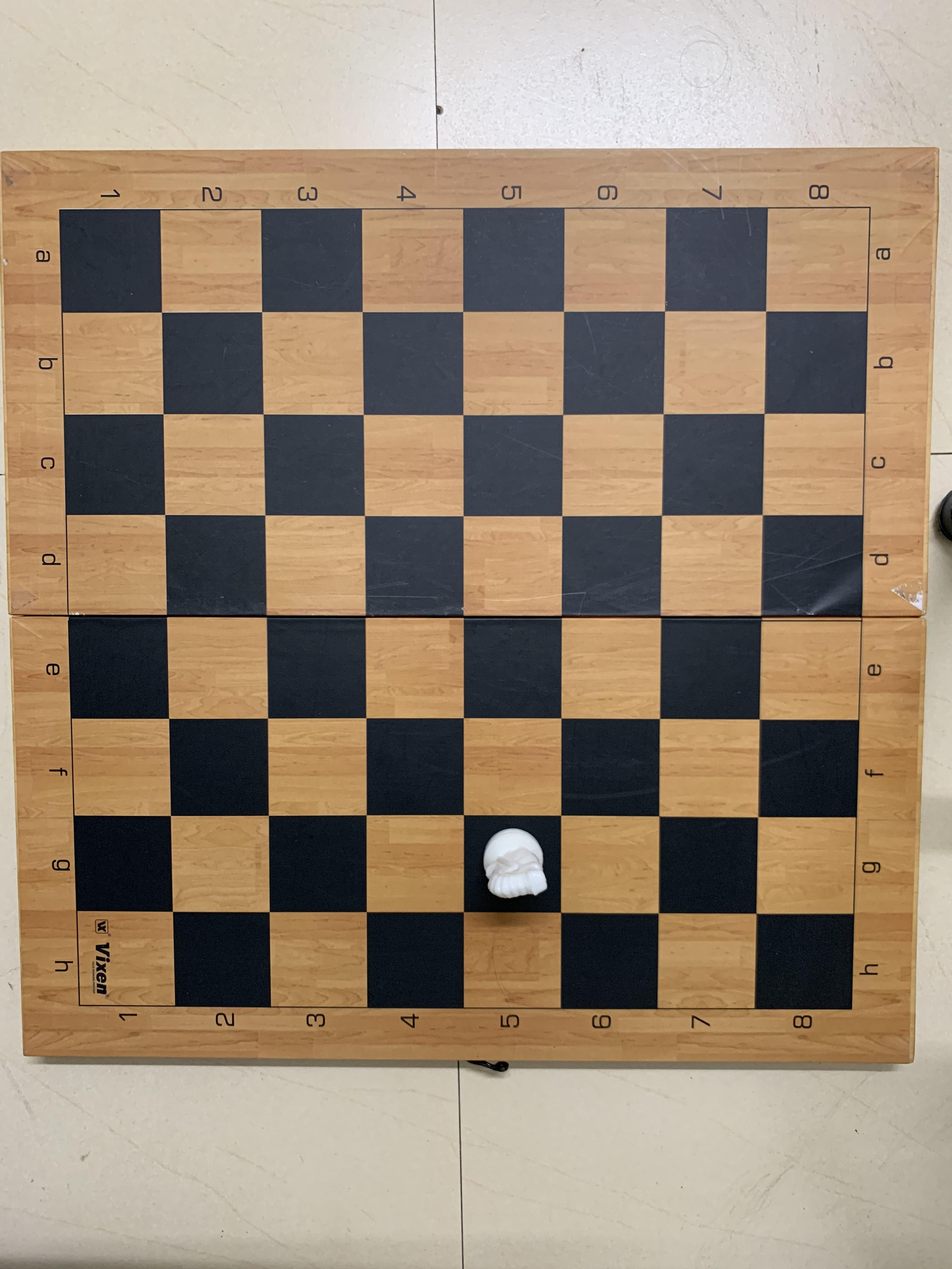white_knight: (466, 819, 566, 920)
